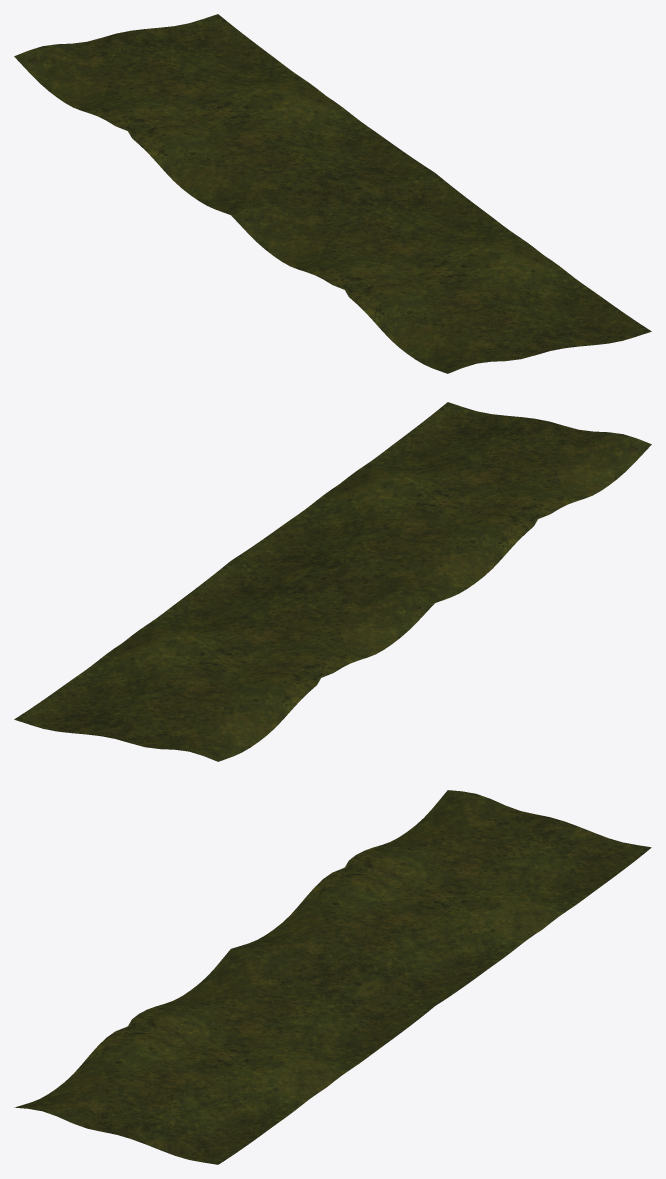
Rendered from Forest ScGrassene.fbx.
The picture shows the model from 3 angles, top to bottom: view 1: azimuth 30°, elevation 25°; view 2: azimuth 150°, elevation 25°; view 3: azimuth 330°, elevation 25°; orthographic projection.
Parts seen in each view (by area): view 1: Ground.002; view 2: Ground.002; view 3: Ground.002.
Boxes of the visible parts, x1,y1,x2,y2 form: Ground.002: [14, 14, 651, 373]; Ground.002: [14, 402, 651, 761]; Ground.002: [14, 790, 651, 1164].
Size of the model in its own units: 1022 by 93.23 by 3760.
